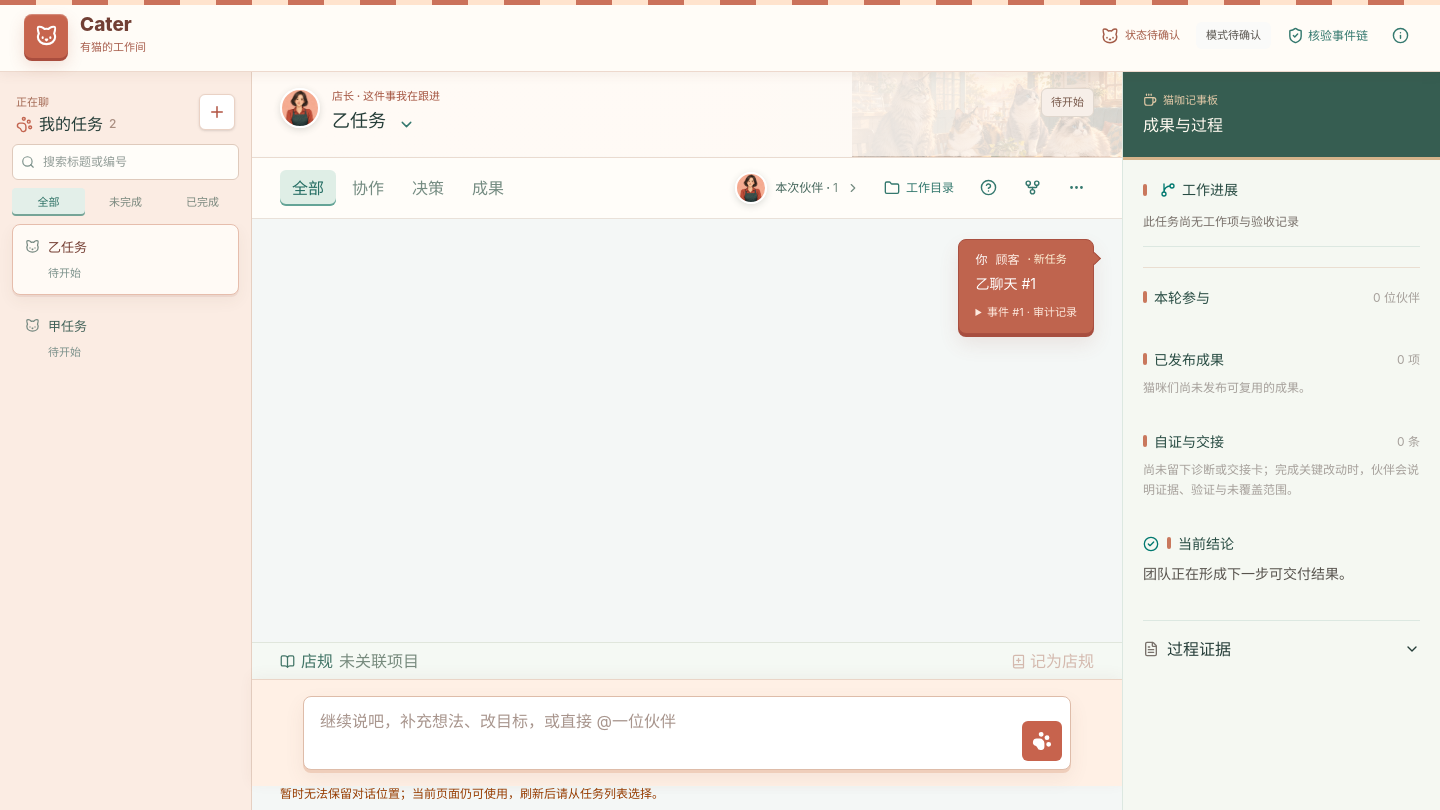
相同事件版本的旧详情不覆盖较晚发送后的活动状态
The width and height of the screenshot is (1440, 810).
Step 1. Type "继续" into the text box named "向团队发送消息" → (663, 733), box left=312, top=705, right=1014, bottom=761
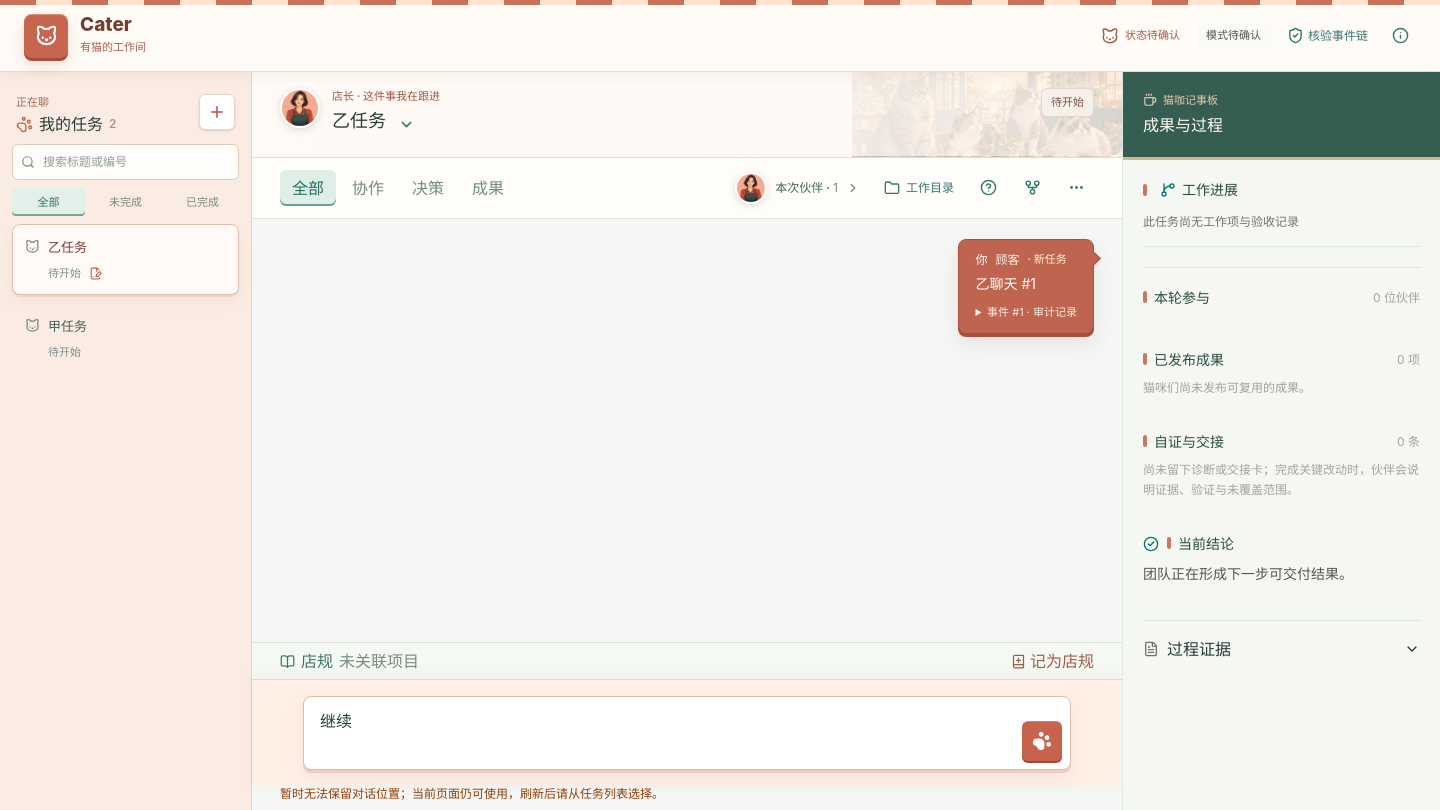
Step 2. Click the button named "发送消息" → (1042, 741), box left=1022, top=721, right=1062, bottom=761
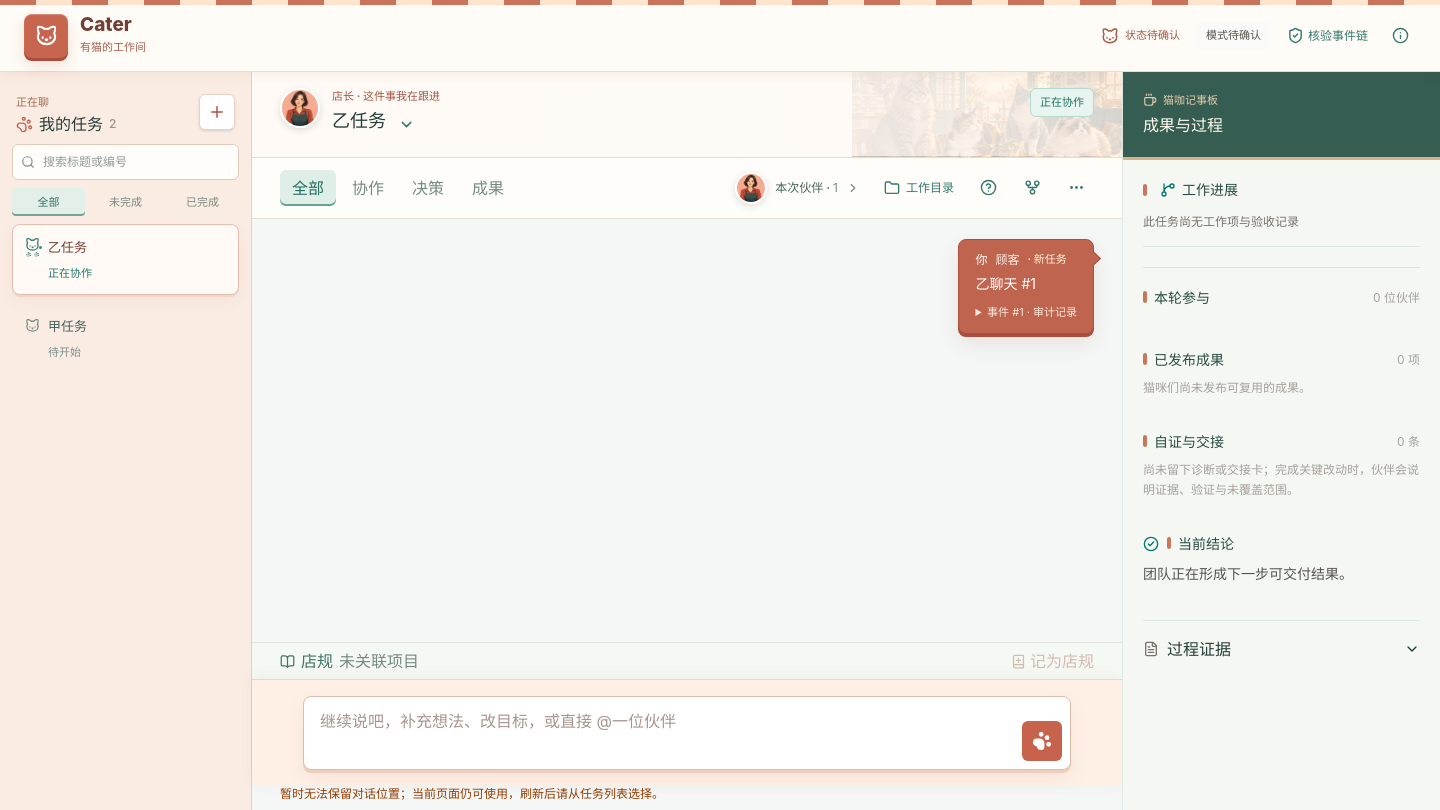
Expected: the button "乙任务 正在协作" is shown, left=12, top=224, right=239, bottom=294
Expected: the text "正在协作" below "我的任务" is shown, left=48, top=266, right=92, bottom=280
